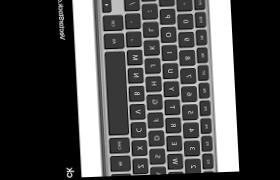keyboard: (91, 0, 221, 177)
